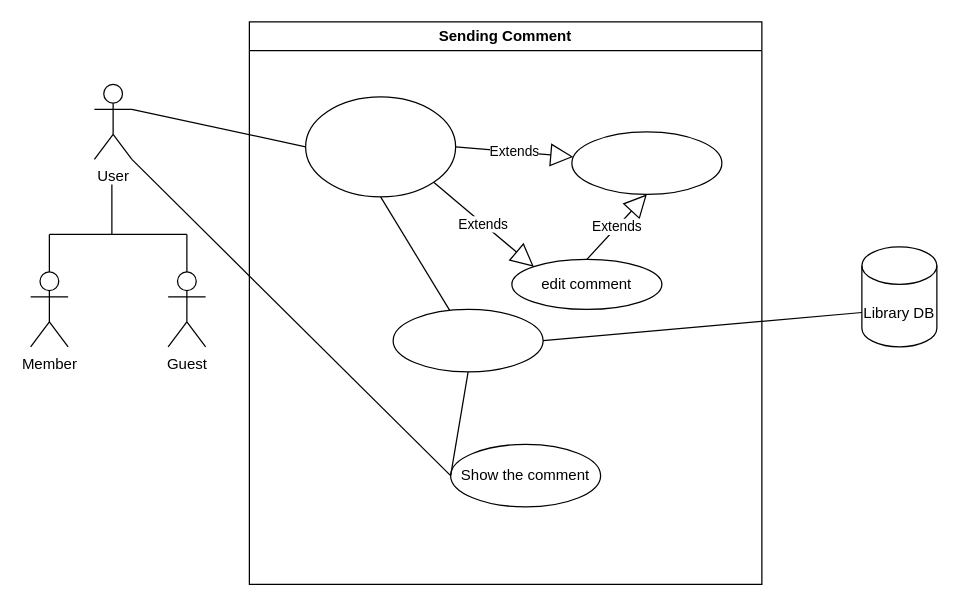
The diagram is 959 pixels wide and 606 high, and some of its shapes have lost their labels. Here are the shapes that lost their labels. From the top down, the centre of each, then its label:
At point (380, 146): "write comment about media or book".
At point (646, 162): "Delete comment".
At point (467, 340): "Send comment".
